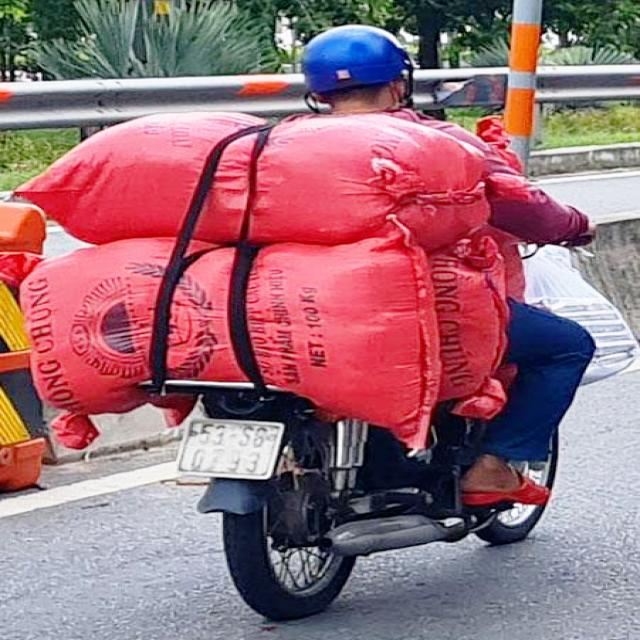license_plate: (177, 420, 282, 476)
